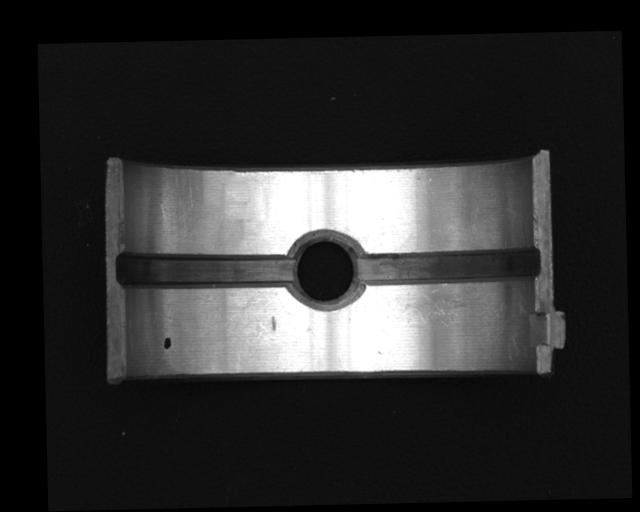blot: (163, 335, 172, 349)
bruise: (270, 315, 277, 331)
gap: (355, 246, 541, 287), (115, 251, 293, 290)
hole: (285, 228, 365, 312)
scratch: (392, 280, 506, 328)
